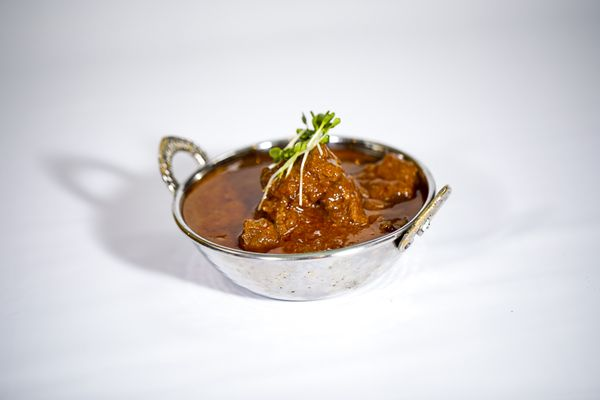sushi: (157, 112, 451, 302)
